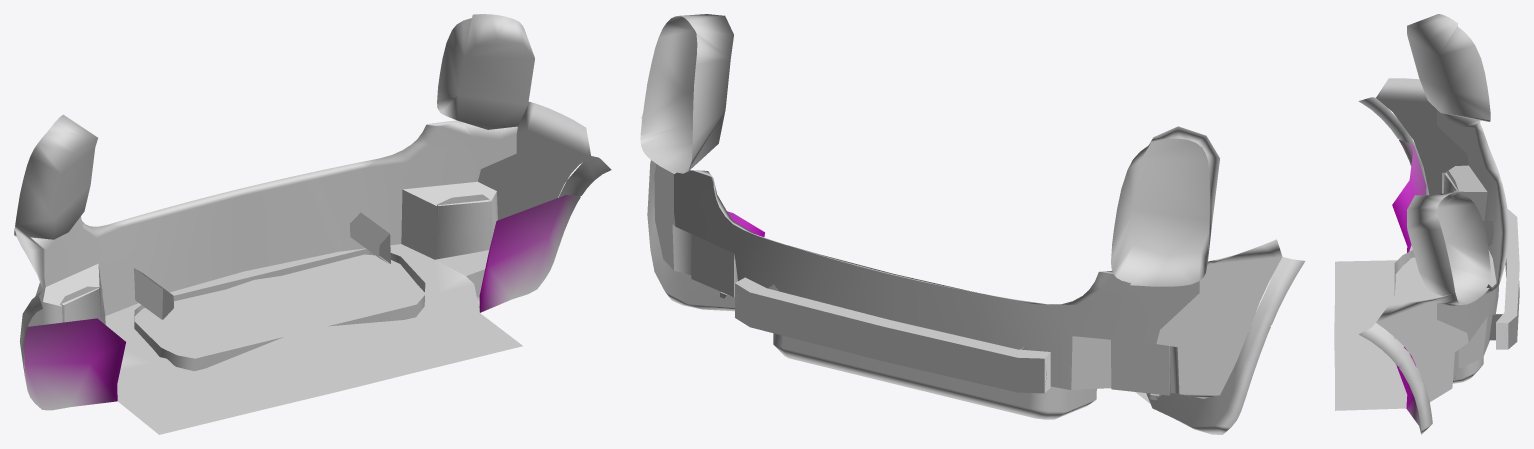
The model's file is Car_Mini_CountrymanJCW_2017_BumperChassisR_SetD_AltB.fbx.
The picture shows the model from 3 angles, left to right: view 1: azimuth 30°, elevation 25°; view 2: azimuth 150°, elevation 25°; view 3: azimuth 270°, elevation 25°; orthographic projection. The views are drawn at different scales.
Visible parts, largest first — view 1: BumperChassisR 6; view 2: BumperChassisR 6; view 3: BumperChassisR 6.
Boxes of the visible parts, left/top/right/bottom form: BumperChassisR 6: left=14, top=14, right=611, bottom=434; BumperChassisR 6: left=640, top=14, right=1305, bottom=434; BumperChassisR 6: left=1334, top=14, right=1519, bottom=434.
Bounding box in the file's own units: 1.75 × 0.8115 × 0.5877.
